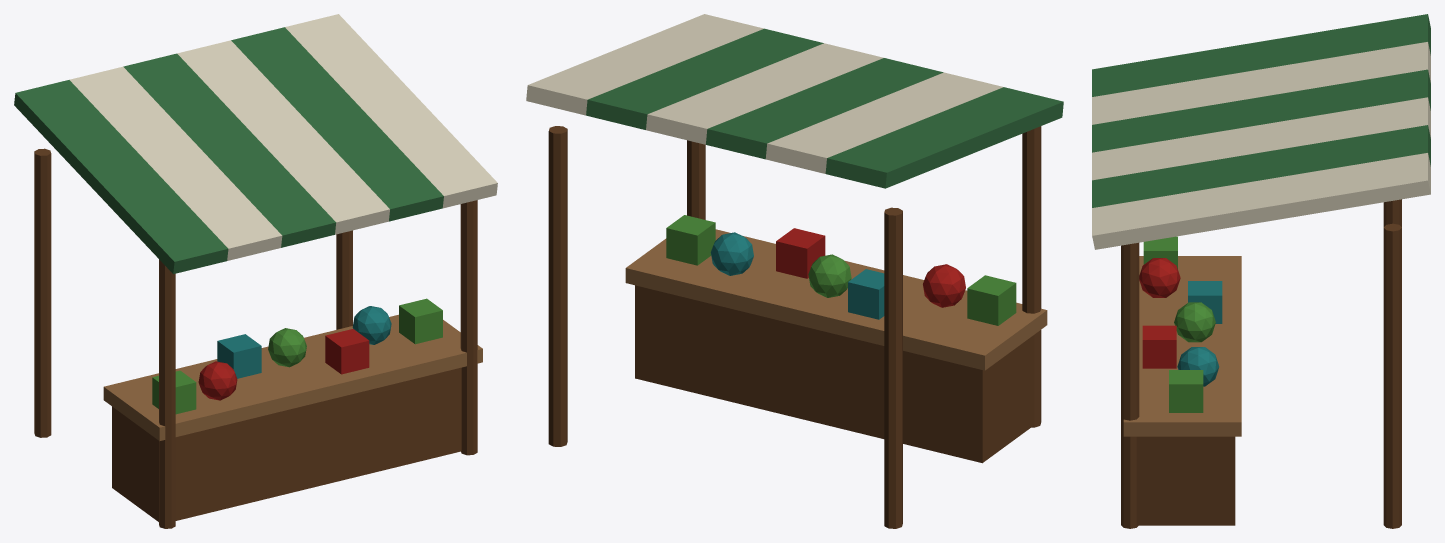
File: SM_GZ_stall_2.fbx
The picture shows the model from 3 angles, left to right: view 1: azimuth 30°, elevation 25°; view 2: azimuth 150°, elevation 25°; view 3: azimuth 270°, elevation 25°; orthographic projection. The views are drawn at different scales.
Parts seen in each view (by area): view 1: SM_GZ_stall_2; view 2: SM_GZ_stall_2; view 3: SM_GZ_stall_2.
Part boxes in pixels (<box>): SM_GZ_stall_2: <box>14,14,497,528</box>; SM_GZ_stall_2: <box>526,14,1063,528</box>; SM_GZ_stall_2: <box>1092,14,1430,528</box>.
Size of the model in its own units: 300 by 294 by 258.
